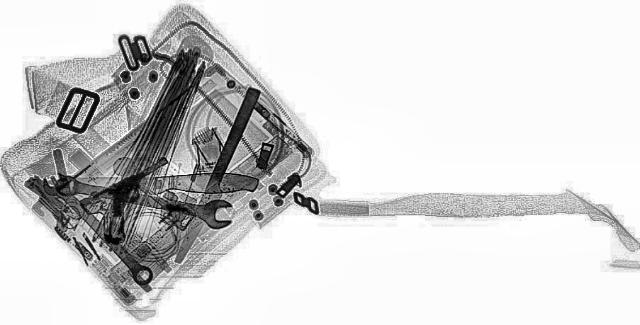Gun: (41, 157, 236, 245)
Knife: (170, 86, 262, 262), (70, 171, 258, 195)
Wrench: (31, 172, 169, 286), (42, 169, 246, 230)
